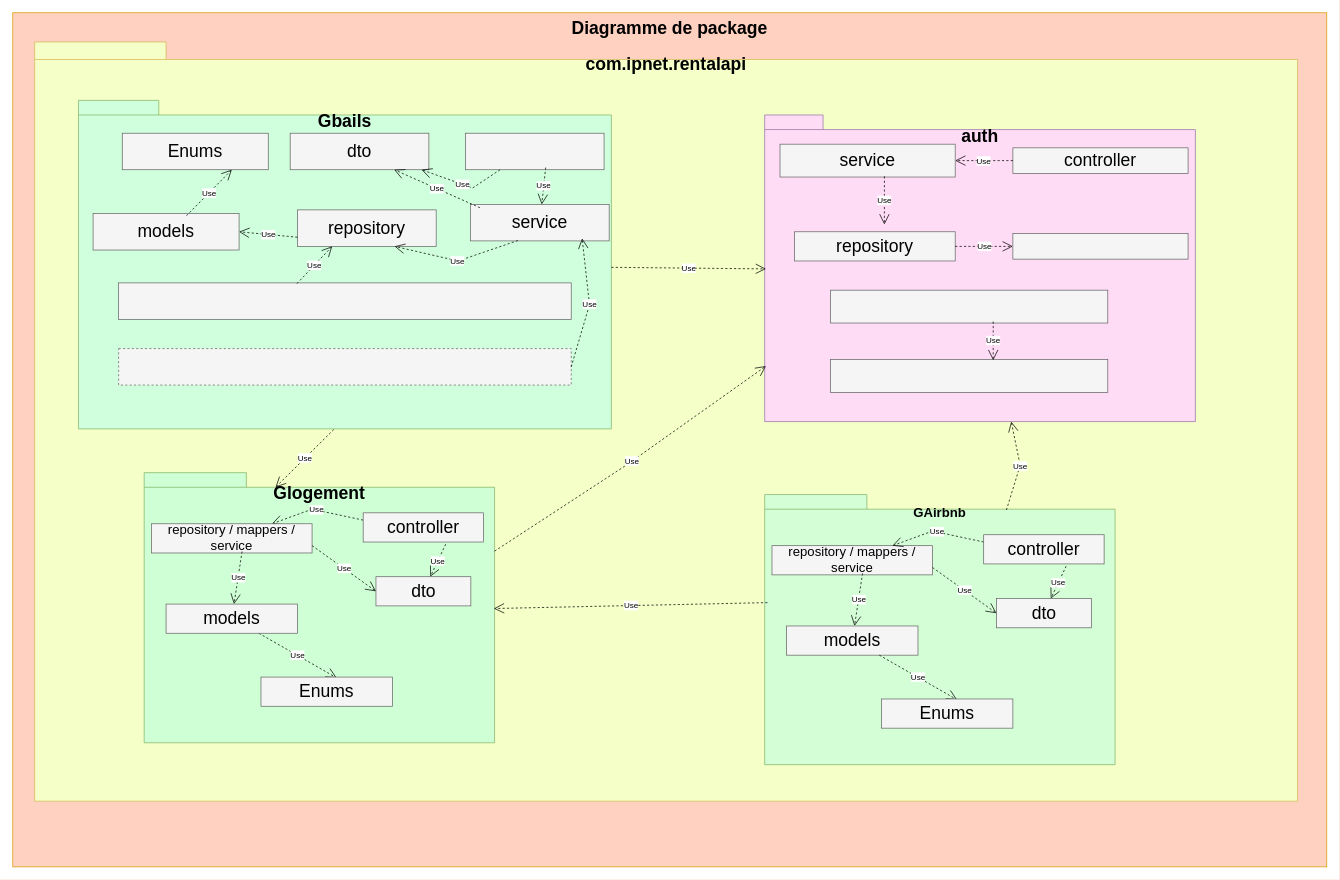
The diagram is 1340 pixels wide and 880 high, and some of its shapes have lost their labels. The centre of each missing label's shape, as x and y in pixels:
"config" belongs at [969,306].
"controler" belongs at [534,151].
"fedapay" belongs at [344,300].
"filter" belongs at [969,375].
"model / dto" belongs at [1100,246].
"scheduler" belongs at [344,366].
